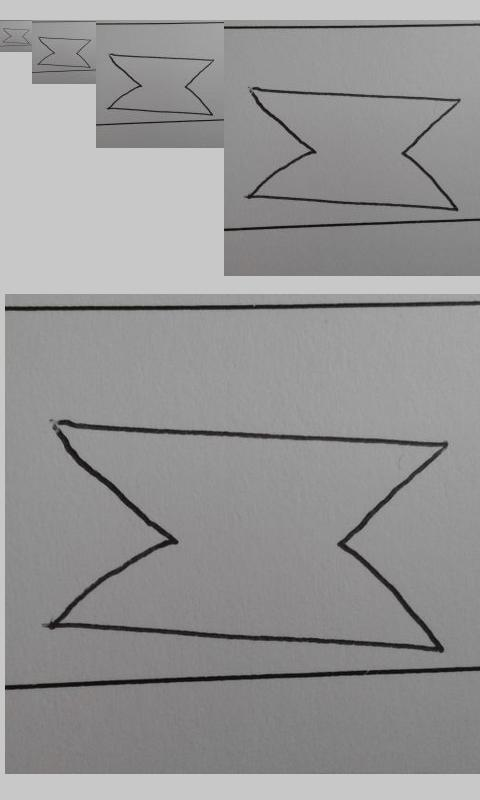edit_text: (45, 414, 453, 653), (244, 85, 463, 213), (107, 52, 214, 116), (38, 36, 91, 68), (3, 27, 30, 44)
